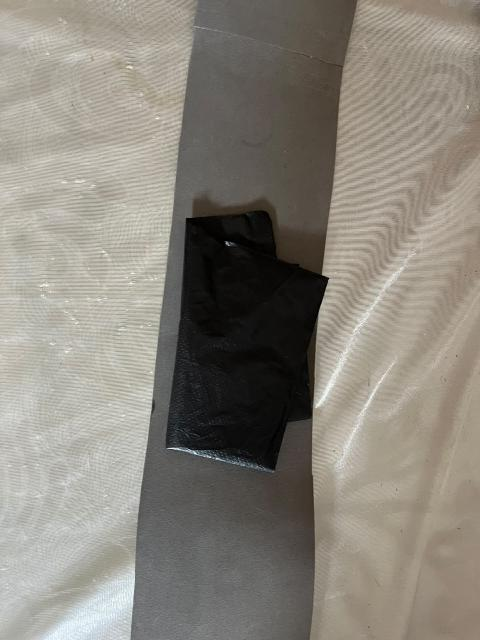LDPE: (135, 170, 395, 559)
